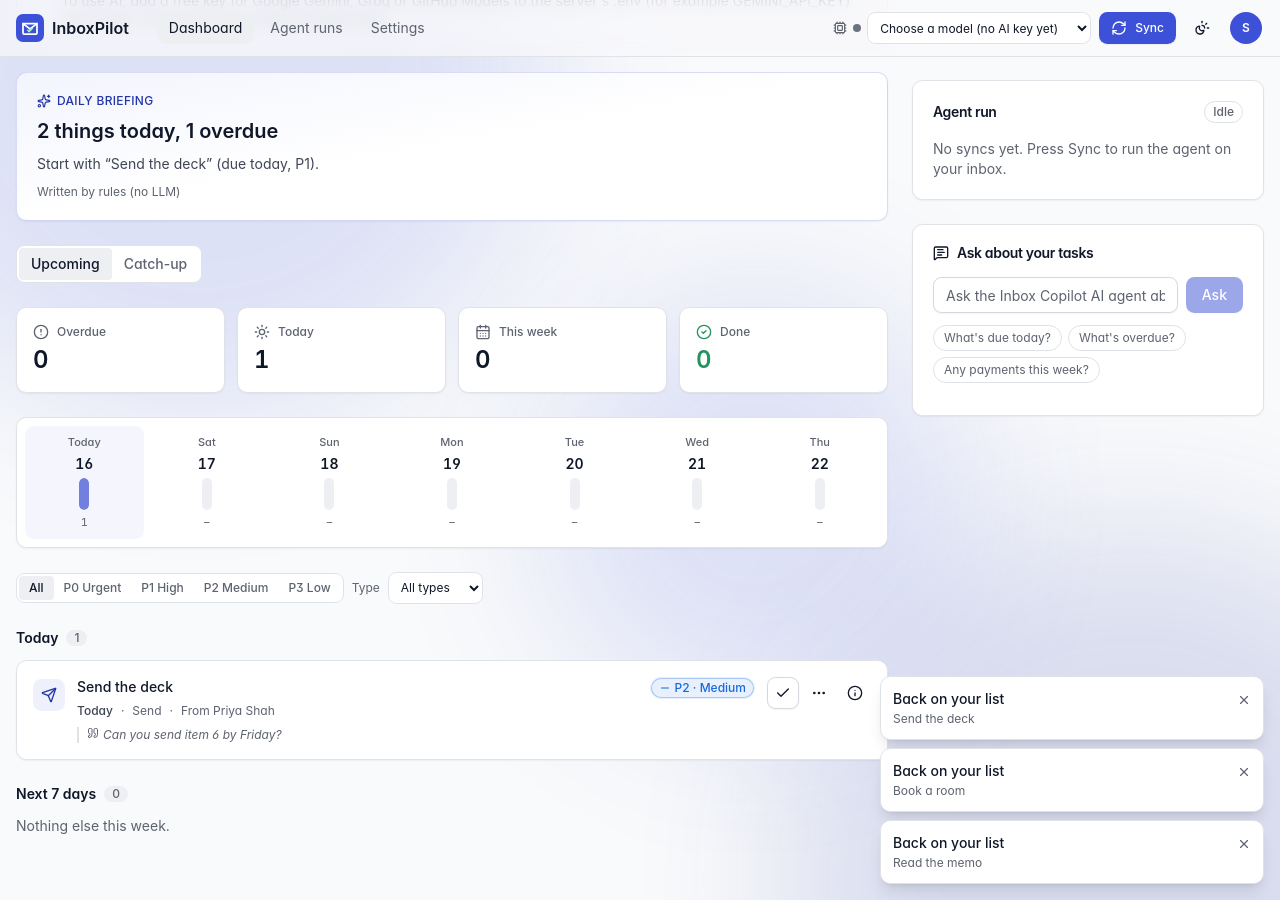
Scenario: dashboard › restores the task if the server rejects the change
(page scrolled)
Click the button named "Mark \"Send the deck\" as done" at (783, 693), box [767, 677, 799, 709]
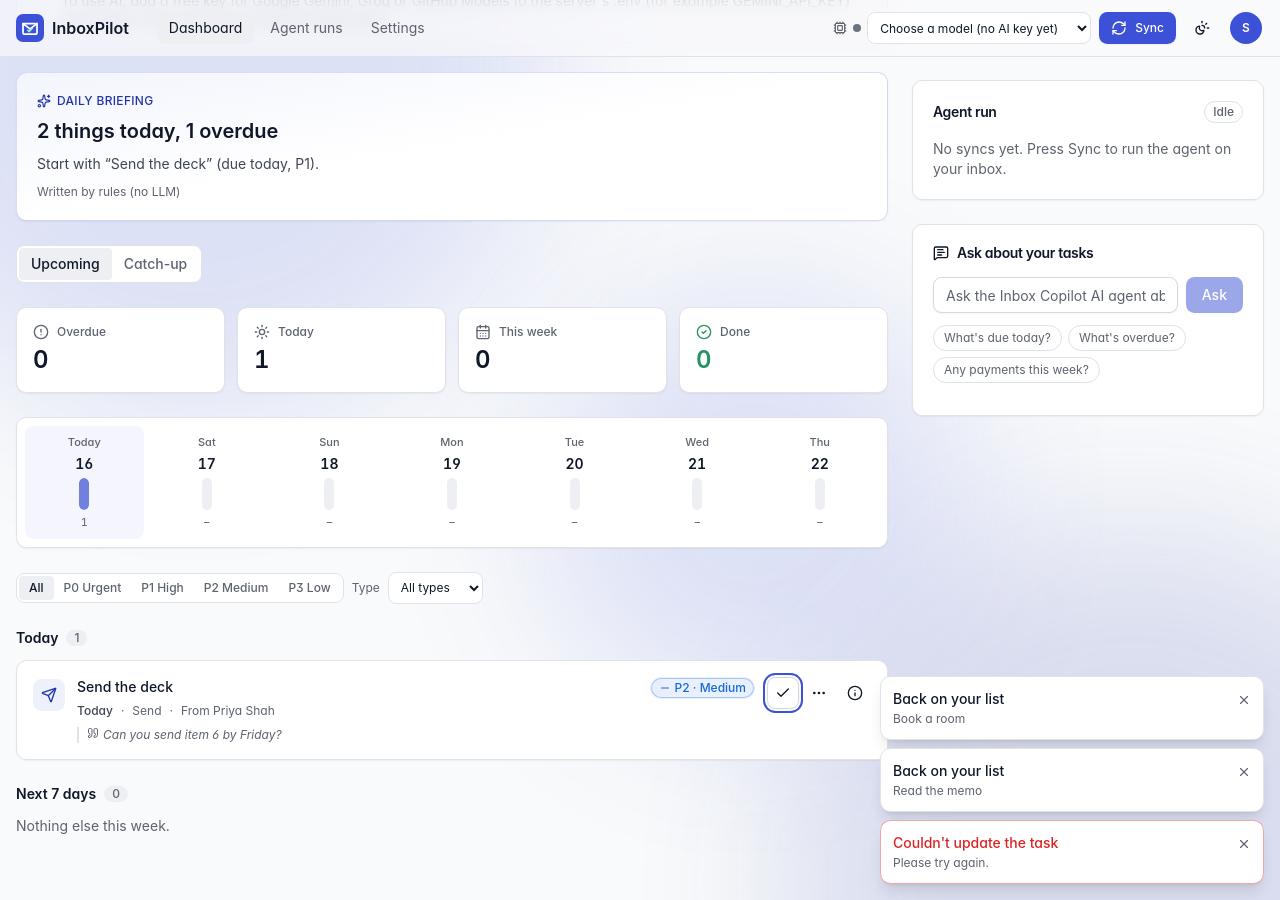
Expected: the list item "Send the deck" is shown, [16, 660, 888, 760]
Expected: the text "Couldn't update the task" is shown, [893, 834, 1058, 851]
